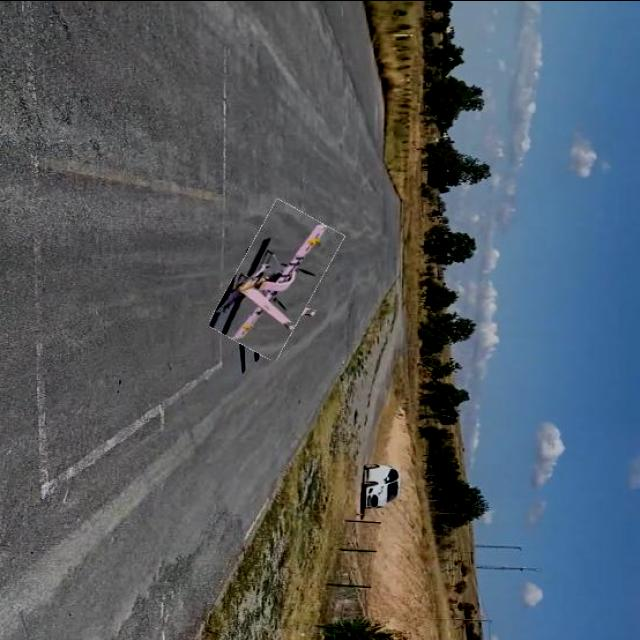plane: (208, 221, 346, 364)
